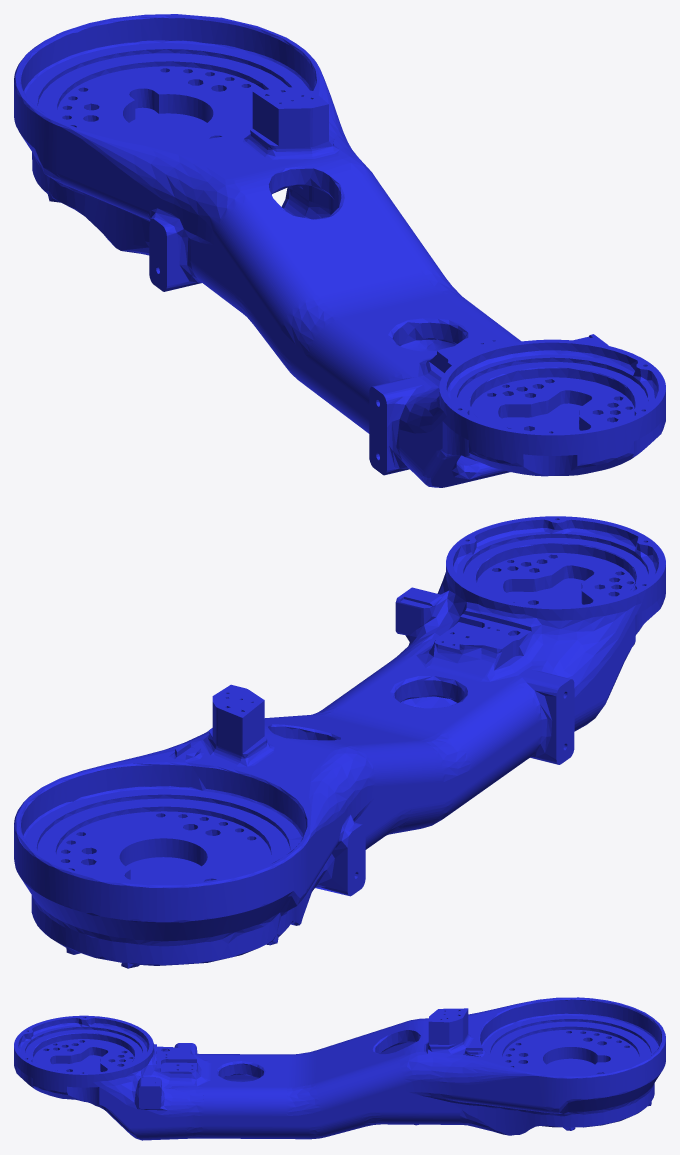
The picture shows the model from 3 angles, top to bottom: view 1: azimuth 30°, elevation 25°; view 2: azimuth 150°, elevation 25°; view 3: azimuth 270°, elevation 25°; orthographic projection. The views are drawn at different scales.
Parts seen in each view (by area): view 1: /Link2/Link2_001-mesh/0; view 2: /Link2/Link2_001-mesh/0; view 3: /Link2/Link2_001-mesh/0.
Part boxes in pixels (x1,y1,x2,y2): /Link2/Link2_001-mesh/0: (14, 14, 665, 487); /Link2/Link2_001-mesh/0: (14, 516, 665, 968); /Link2/Link2_001-mesh/0: (14, 997, 665, 1140).
Bounding box in the file's own units: 0.34 × 0.2325 × 1.16.
